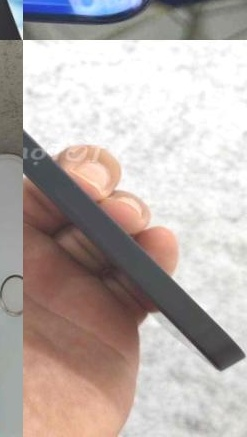scratch: (0, 288, 23, 323)
